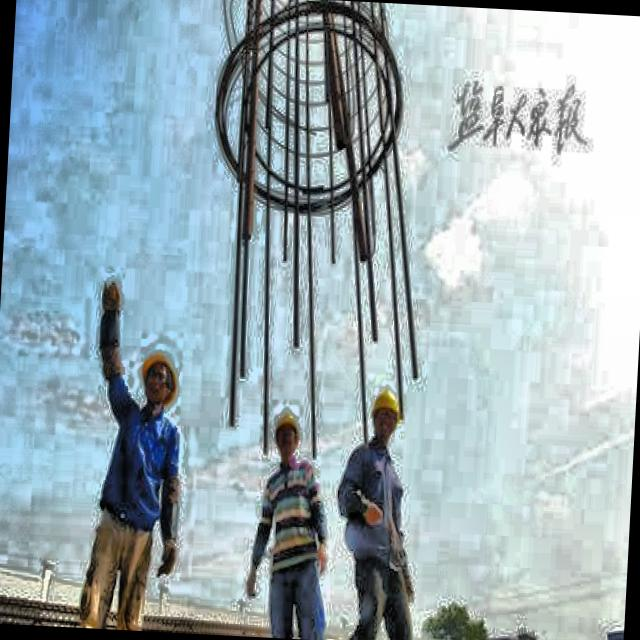helmet: (138, 346, 180, 414), (368, 382, 404, 446), (272, 409, 302, 462)
